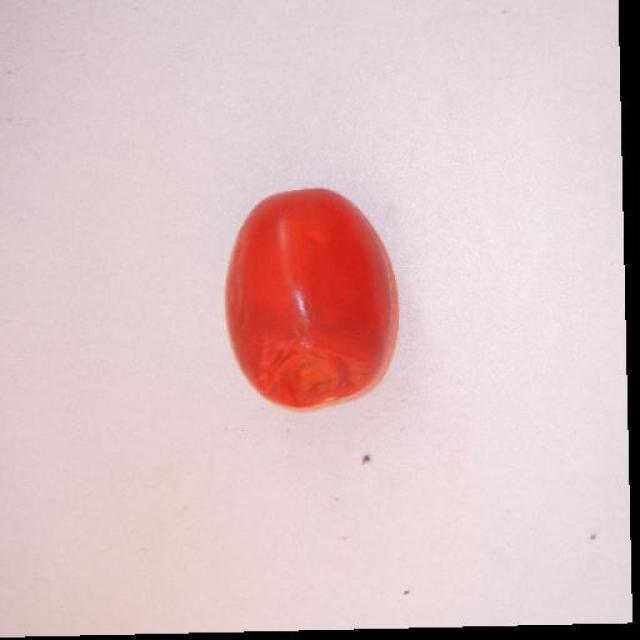Stale_tomato: (216, 178, 418, 420)
